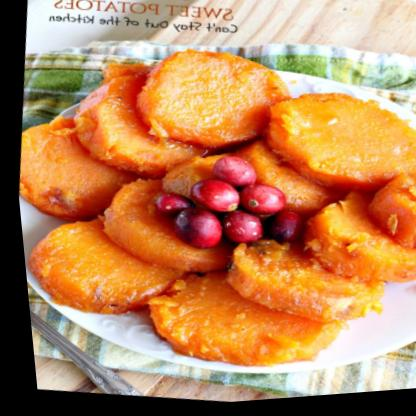---: (108, 217, 398, 394), (104, 27, 305, 168), (224, 77, 416, 201), (15, 195, 176, 322)
